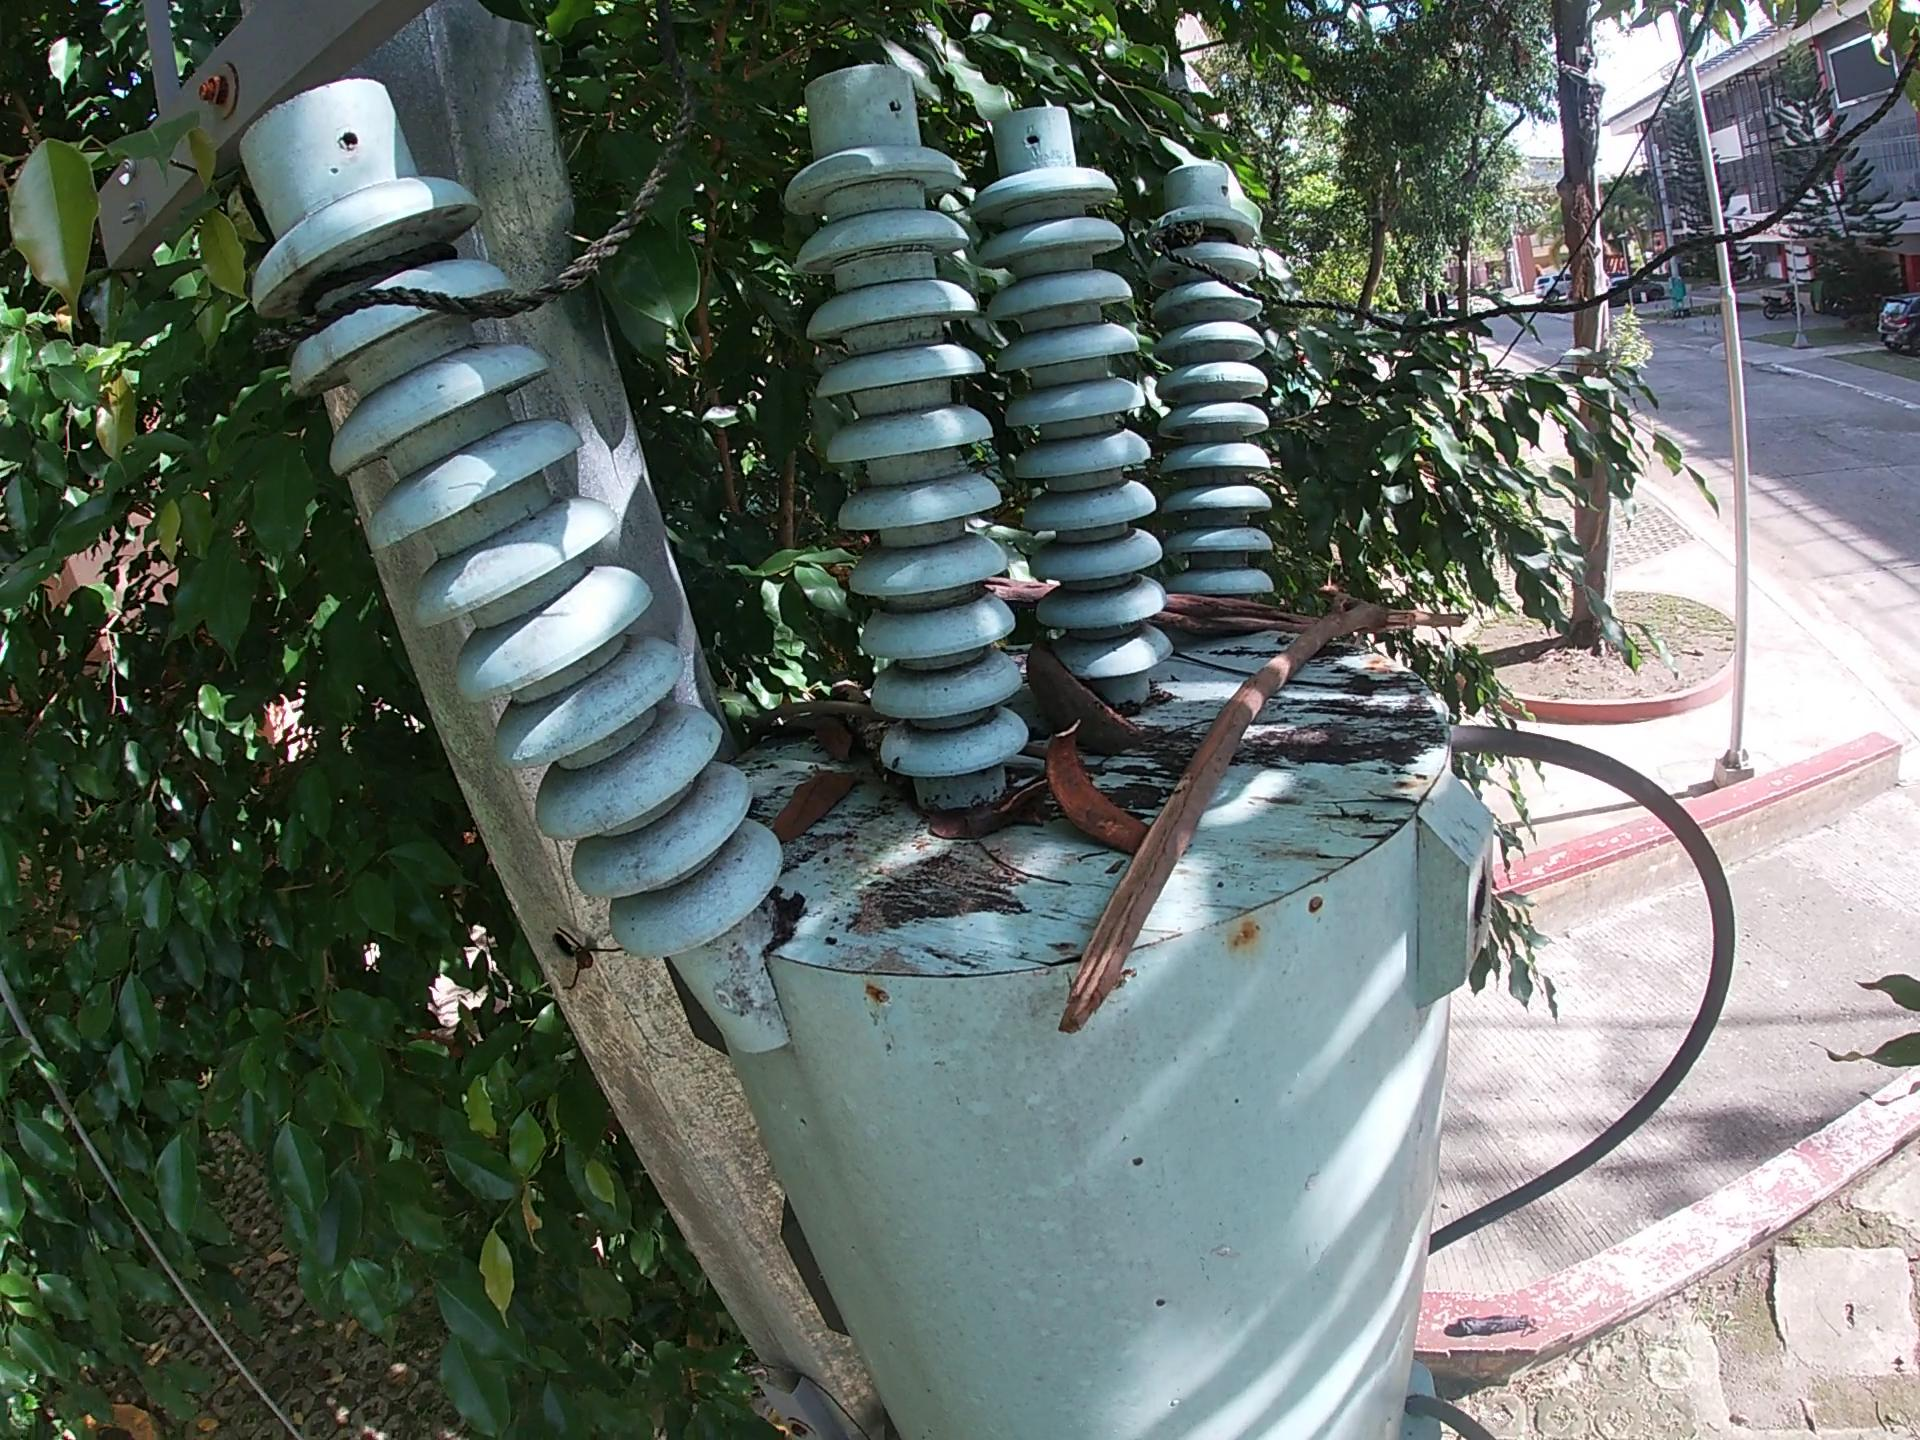leaf: (771, 746, 875, 839), (924, 809, 993, 850), (812, 726, 847, 764)
mahogany fruit: (1030, 623, 1149, 753), (1034, 725, 1137, 856)
tree branch: (1055, 591, 1491, 1085), (1146, 587, 1321, 626), (974, 843, 1087, 902), (1291, 672, 1418, 709), (830, 673, 878, 771), (992, 790, 1054, 843), (980, 573, 1054, 614), (1166, 644, 1249, 676), (766, 700, 878, 720), (1011, 764, 1040, 770)
